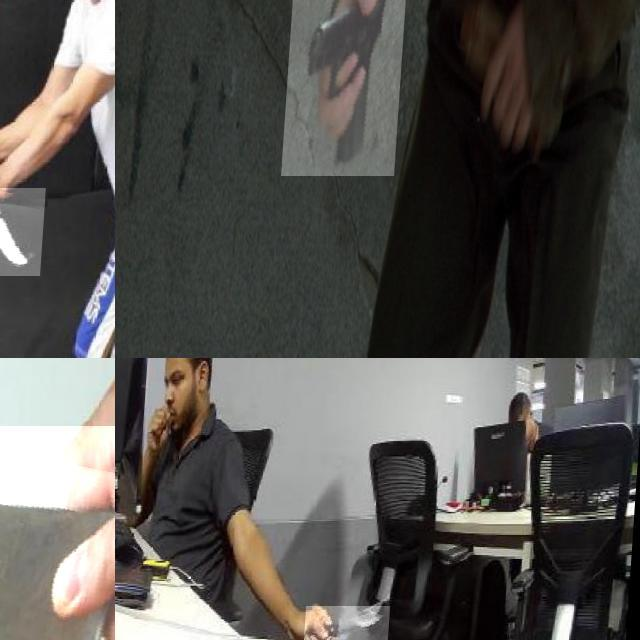-: (0, 426, 115, 640), (0, 188, 50, 275), (311, 605, 397, 640)
gun-knife-thesis - v11 Yolov5 augmented: (286, 0, 411, 175)
